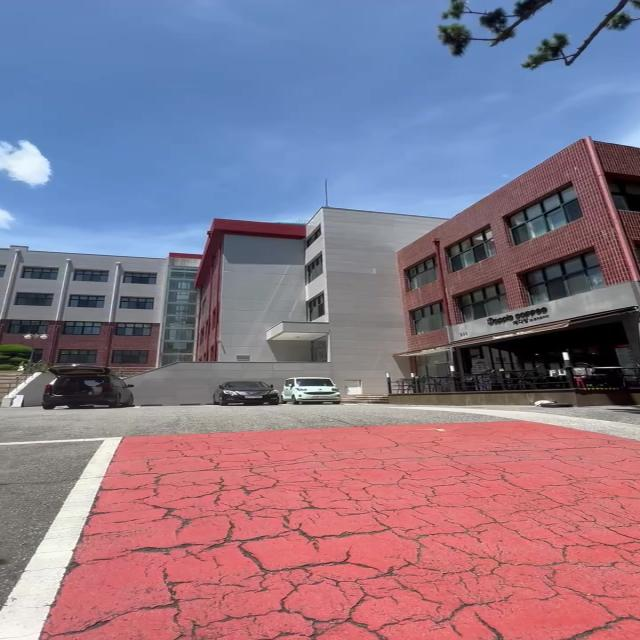building: (2, 170, 640, 374)
